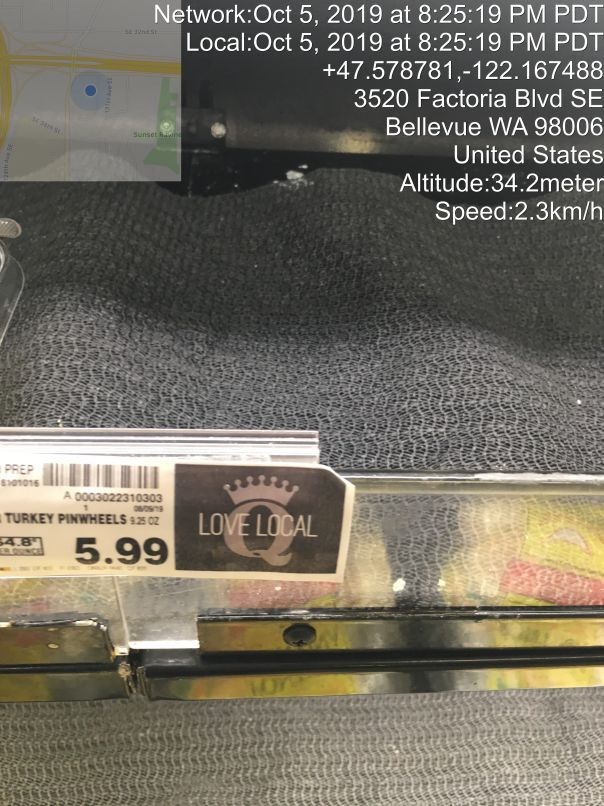Label: (4, 442, 361, 598)
Location: (349, 82, 604, 168)
Time: (147, 1, 604, 56)
Void: (53, 65, 408, 503)
